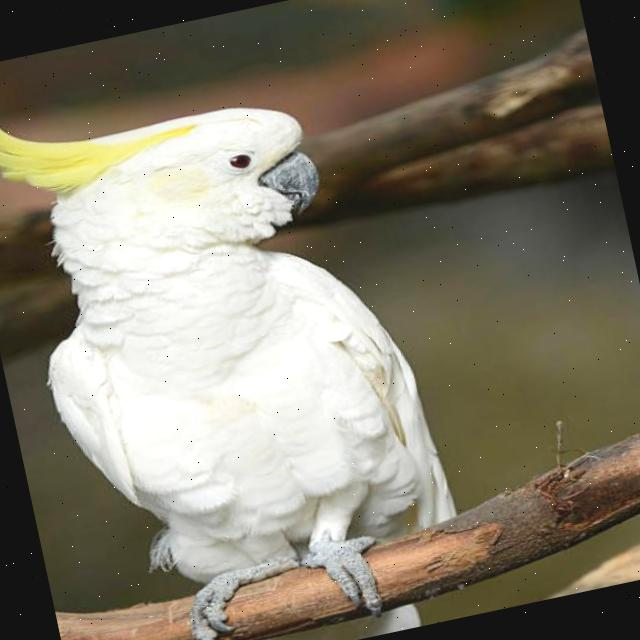Kakatua Putih: (0, 3, 541, 640)
